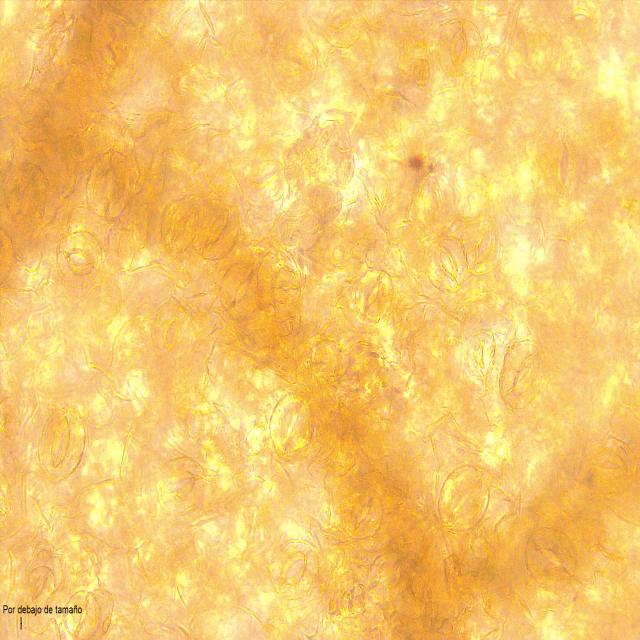Stomata: (436, 463, 490, 535), (36, 406, 86, 482), (578, 434, 638, 497), (524, 526, 579, 592), (86, 148, 132, 219), (498, 340, 545, 409), (544, 126, 587, 199), (268, 392, 312, 462), (192, 198, 240, 262), (156, 456, 206, 516), (271, 539, 320, 600), (438, 16, 483, 78), (424, 235, 470, 293), (58, 228, 102, 288), (5, 164, 48, 223), (460, 217, 502, 276), (218, 262, 260, 321), (150, 303, 191, 362), (341, 486, 384, 538), (160, 198, 198, 254), (320, 2, 364, 50), (356, 269, 393, 320), (465, 331, 496, 379), (26, 564, 56, 606)
